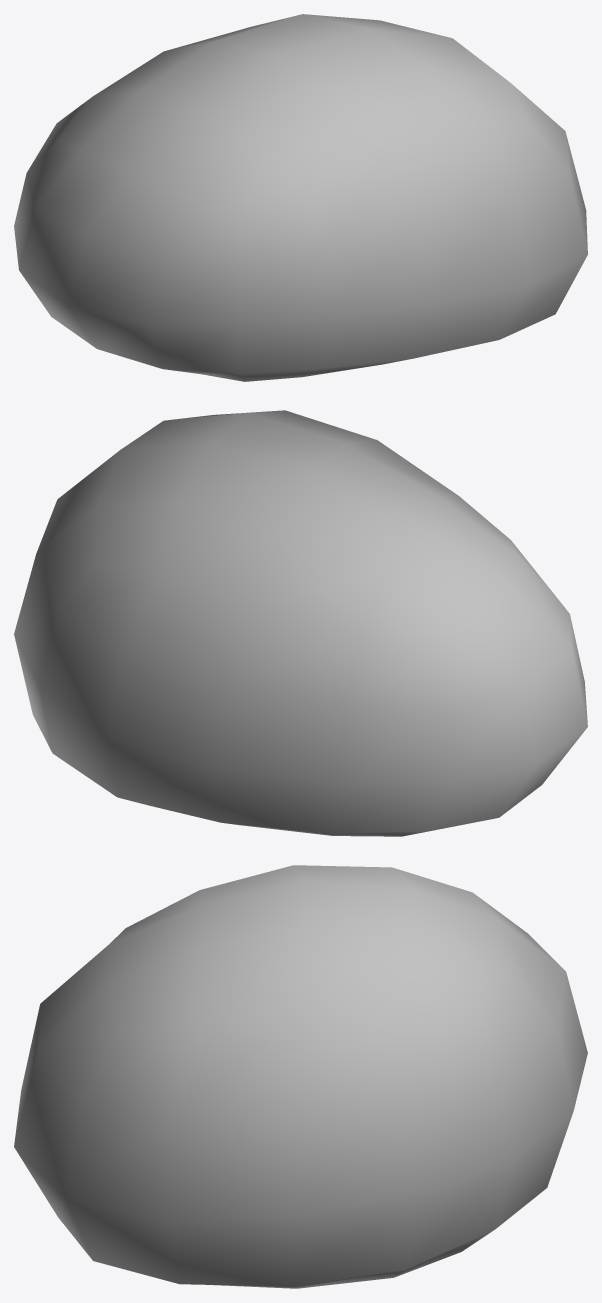
File: Pebble_1b.gltf
3 views of the same model, one above another, from view 1: azimuth 30°, elevation 25°; view 2: azimuth 150°, elevation 25°; view 3: azimuth 270°, elevation 25° (orthographic). The views are drawn at different scales.
Parts seen in each view (by area): view 1: Pebble_1b; view 2: Pebble_1b; view 3: Pebble_1b.
Part boxes in pixels (left/top/right/bottom): Pebble_1b: left=14, top=14, right=587, bottom=381; Pebble_1b: left=14, top=410, right=587, bottom=836; Pebble_1b: left=14, top=865, right=587, bottom=1288.
Size of the model in its own units: 43.37 by 24.17 by 38.6.
1 material, 1 textured.
